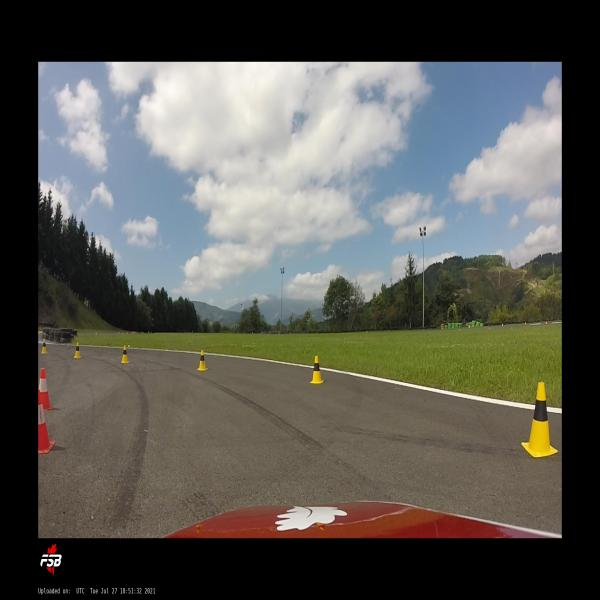orange_cone: (38, 398, 56, 455), (38, 368, 54, 411)
yellow_cone: (521, 382, 558, 458), (310, 355, 325, 384), (197, 350, 208, 370), (121, 345, 129, 364), (74, 341, 82, 359), (41, 338, 48, 354)
